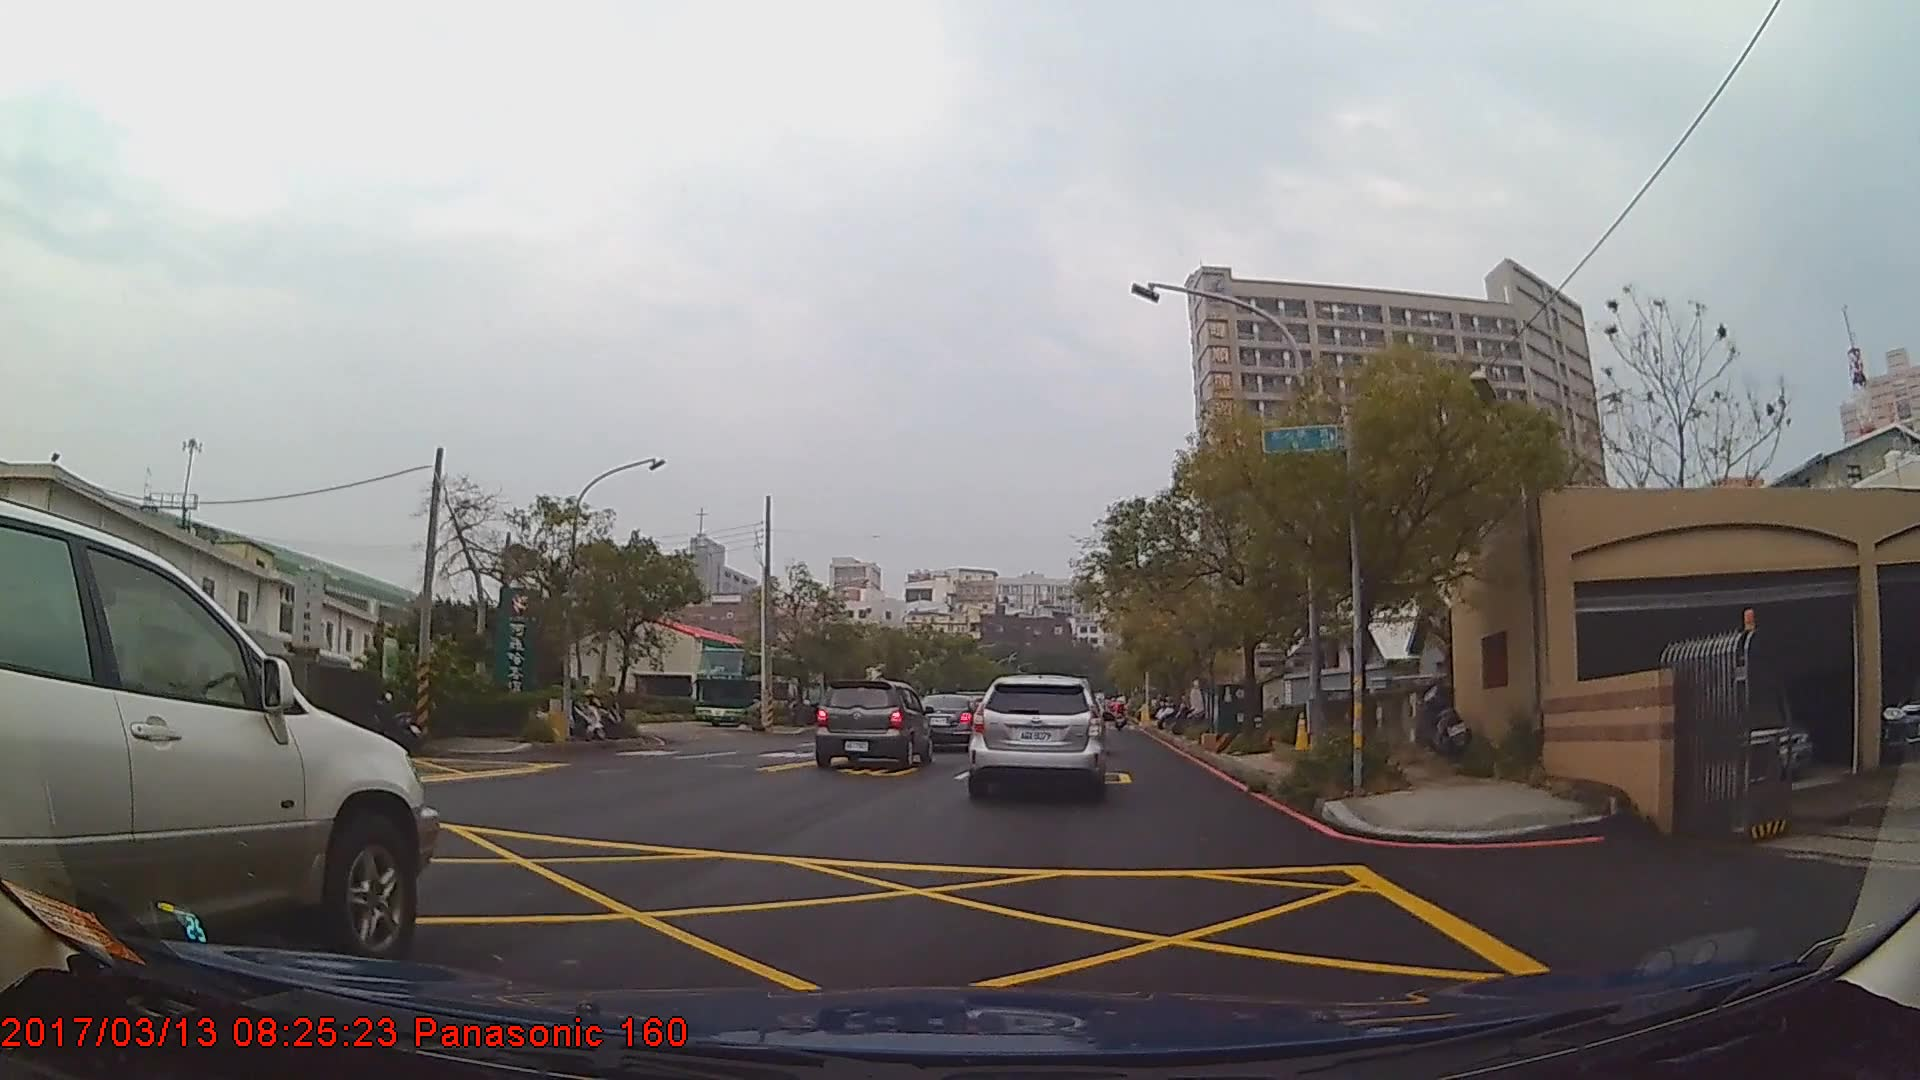vehicle: (0, 496, 436, 998), (967, 671, 1109, 802), (814, 680, 934, 771), (695, 647, 810, 731), (914, 694, 986, 753)
